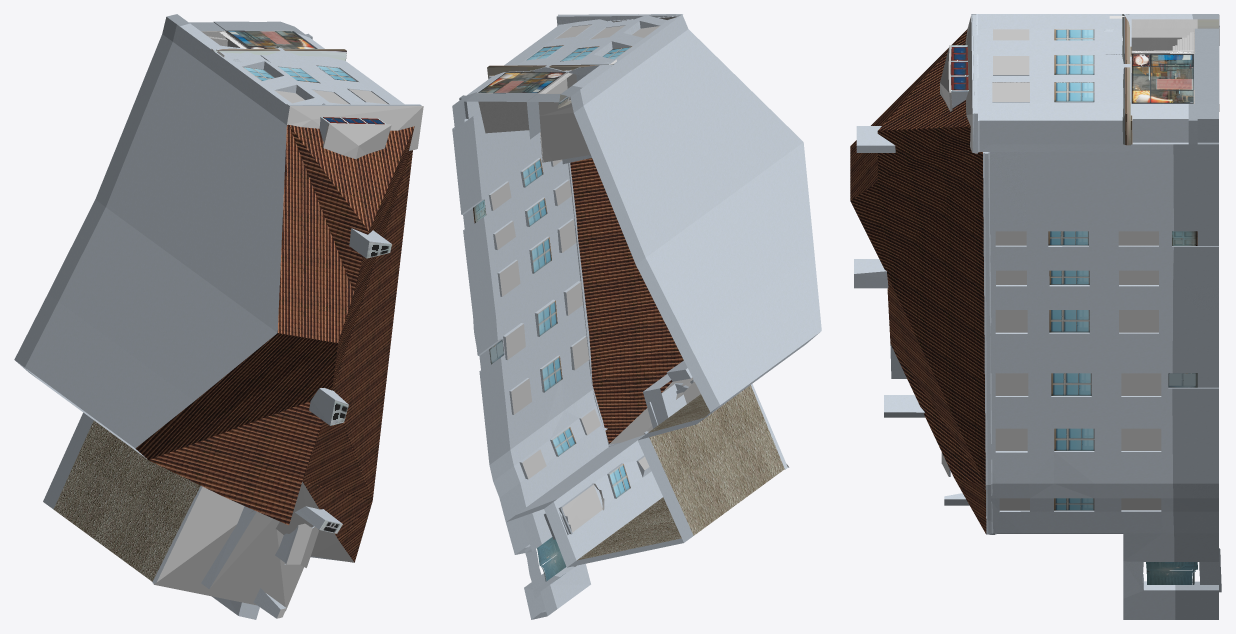
Rendered from Viru_22-origo.obj.
3 views of the same model, side by side, from view 1: azimuth 30°, elevation 25°; view 2: azimuth 150°, elevation 25°; view 3: azimuth 270°, elevation 25° (orthographic). The views are drawn at different scales.
Visible parts, largest first — view 1: Viru_22; view 2: Viru_22; view 3: Viru_22.
Part boxes in pixels (x1,y1,x2,y2): Viru_22: (14,14,423,619); Viru_22: (452,14,821,619); Viru_22: (850,14,1221,619).
Size of the model in its own units: 18.19 by 35 by 20.14.
